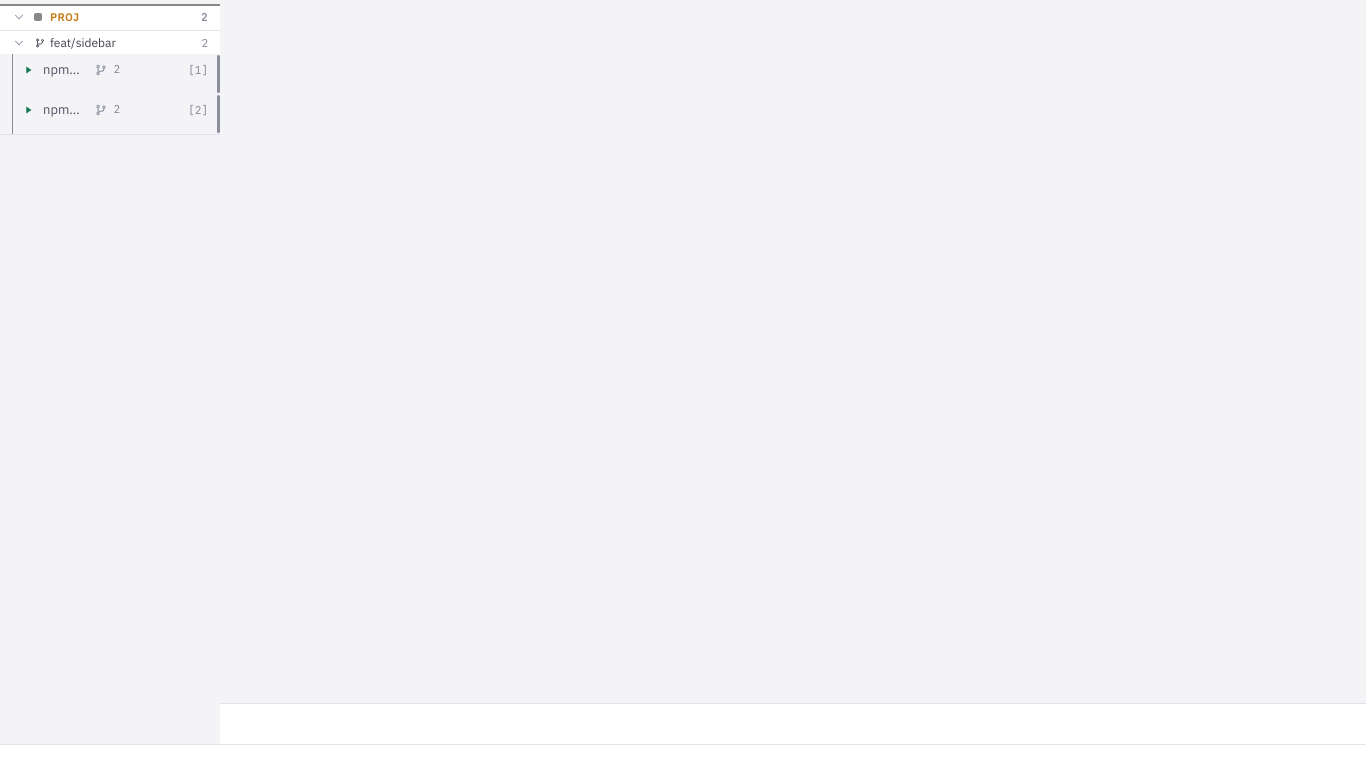
worktree group rename › seeds the editor with the branch when the group has no name
Double-click the element with class "hv-worktree-group__title": (75, 42) [34,35,116,50]
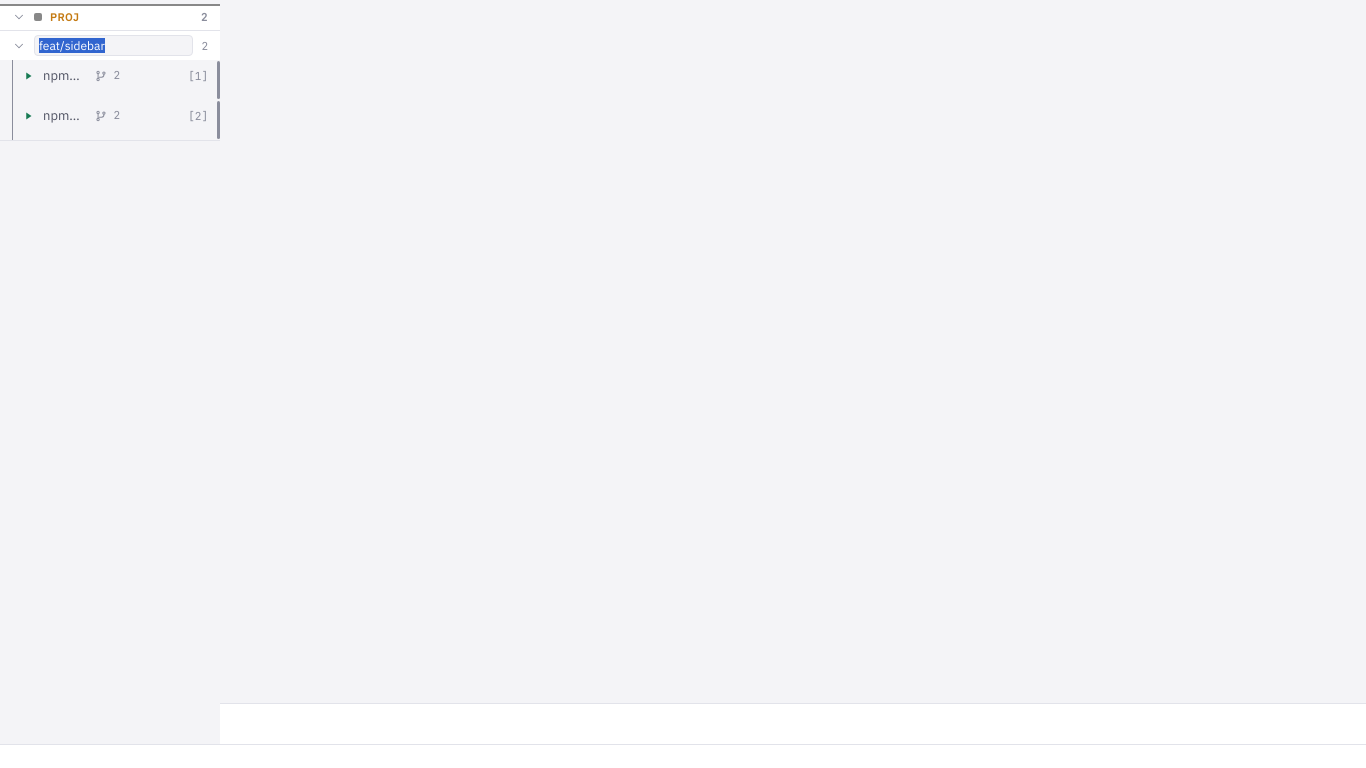
Check: the field with class "group-name-input" holds "feat/sidebar", box [34,35,193,56]
